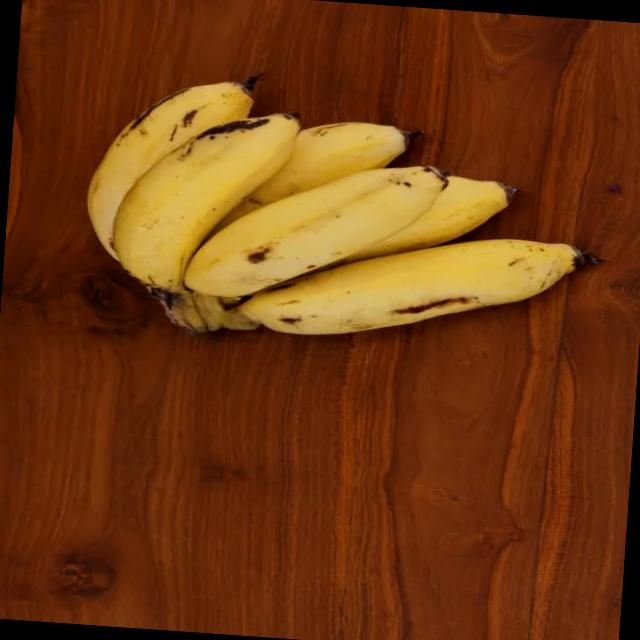Platano: (70, 56, 620, 366)
